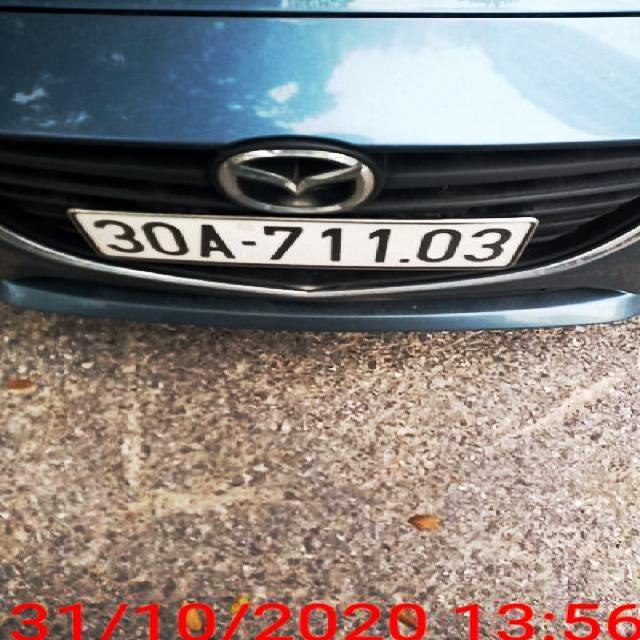license_plate: (72, 211, 535, 269)
